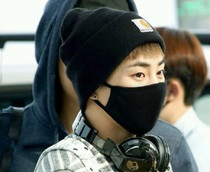face_mask: (104, 42, 167, 134)
